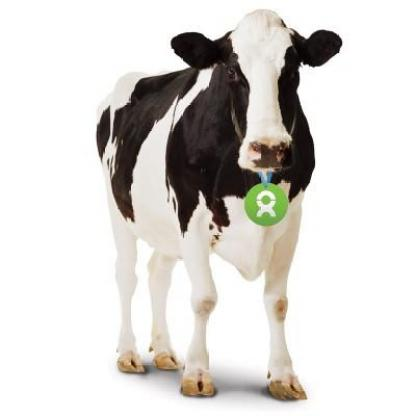cow: (97, 9, 342, 402)
